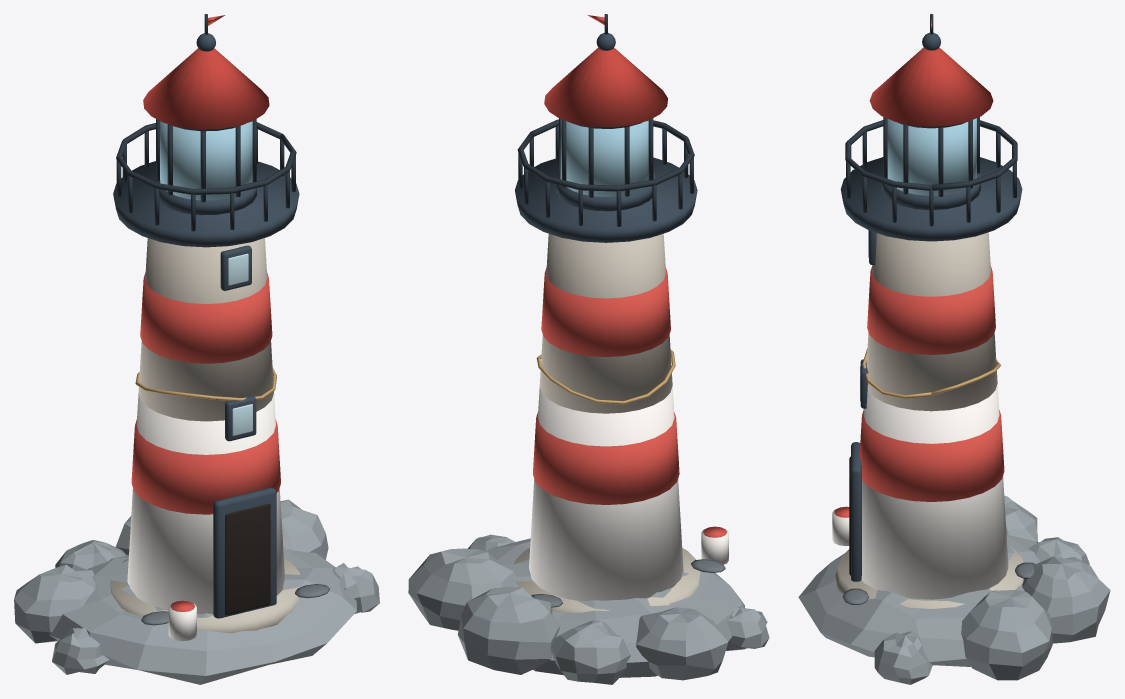
File: lighthouse-repair.glb
3 views of the same model, side by side, from view 1: azimuth 30°, elevation 25°; view 2: azimuth 150°, elevation 25°; view 3: azimuth 270°, elevation 25° (orthographic). The views are drawn at different scales.
Parts seen in each view (by area): view 1: tower, rock, gallery, lantern, roof, repair; view 2: tower, rock, gallery, lantern, roof, repair; view 3: tower, rock, gallery, lantern, roof, repair.
Part boxes in pixels (x1=…): tower: x1=127, y1=238, x2=284, y2=618; rock: x1=14, y1=499, x2=379, y2=684; gallery: x1=113, y1=122, x2=299, y2=247; lantern: x1=155, y1=119, x2=256, y2=215; roof: x1=143, y1=14, x2=269, y2=129; repair: x1=135, y1=368, x2=276, y2=641; tower: x1=529, y1=233, x2=683, y2=600; rock: x1=408, y1=534, x2=769, y2=684; gallery: x1=515, y1=119, x2=697, y2=242; lantern: x1=556, y1=118, x2=655, y2=211; roof: x1=544, y1=14, x2=667, y2=127; repair: x1=536, y1=349, x2=728, y2=564; tower: x1=849, y1=230, x2=1008, y2=599; rock: x1=798, y1=495, x2=1110, y2=684; gallery: x1=840, y1=120, x2=1022, y2=241; lantern: x1=882, y1=117, x2=980, y2=209; roof: x1=869, y1=14, x2=993, y2=126; repair: x1=832, y1=348, x2=1000, y2=545.
Size of the model in its own units: 2.57 by 4.81 by 2.27.
